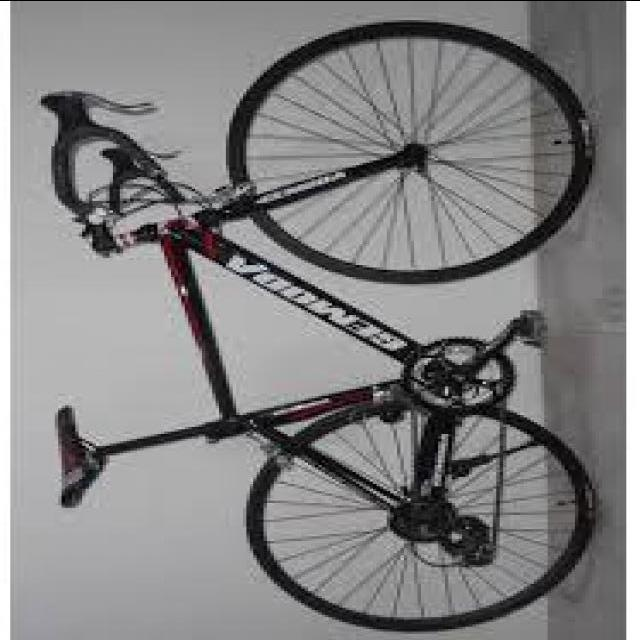bicycle: (42, 35, 580, 627)
